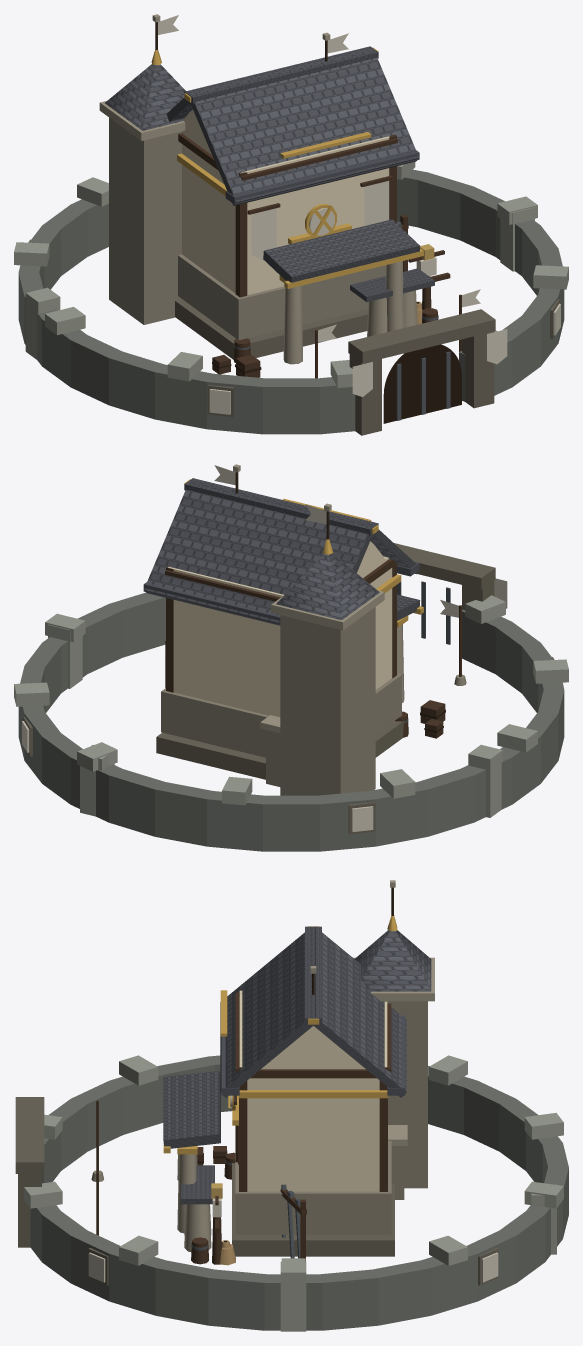
File: town-elite-L3.glb
The picture shows the model from 3 angles, top to bottom: view 1: azimuth 30°, elevation 25°; view 2: azimuth 150°, elevation 25°; view 3: azimuth 270°, elevation 25°; orthographic projection.
Visible parts, largest first — view 1: building-elite-L3, object 8, object 9, object 10, object 12, object 11, object 13, object 2; view 2: building-elite-L3, object 8, object 9, object 10, object 11, object 2, object 13; view 3: building-elite-L3, object 8, object 9, object 10, object 11, object 2.
Boxes of the visible parts, box(x1,y1,x2,y2) form: building-elite-L3: box(99, 14, 450, 377); object 8: box(18, 169, 564, 434); object 9: box(14, 162, 568, 387); object 10: box(28, 239, 559, 435); object 12: box(383, 344, 461, 423); object 11: box(209, 303, 560, 414); object 13: box(396, 351, 450, 420); object 2: box(212, 294, 461, 378); building-elite-L3: box(143, 464, 445, 795); object 8: box(18, 592, 564, 851); object 9: box(14, 595, 568, 817); object 10: box(23, 543, 554, 834); object 11: box(22, 578, 507, 831); object 2: box(395, 605, 461, 738); object 13: box(397, 581, 450, 644); building-elite-L3: box(163, 880, 434, 1264); object 8: box(30, 1055, 568, 1330); object 9: box(24, 1055, 563, 1331); object 10: box(15, 1097, 498, 1285); object 11: box(88, 1252, 498, 1282); object 2: box(96, 1100, 235, 1235).
Bounding box in the file's own units: 7.02 × 4.03 × 6.95.
Materials: 16 (1 with a texture image).
